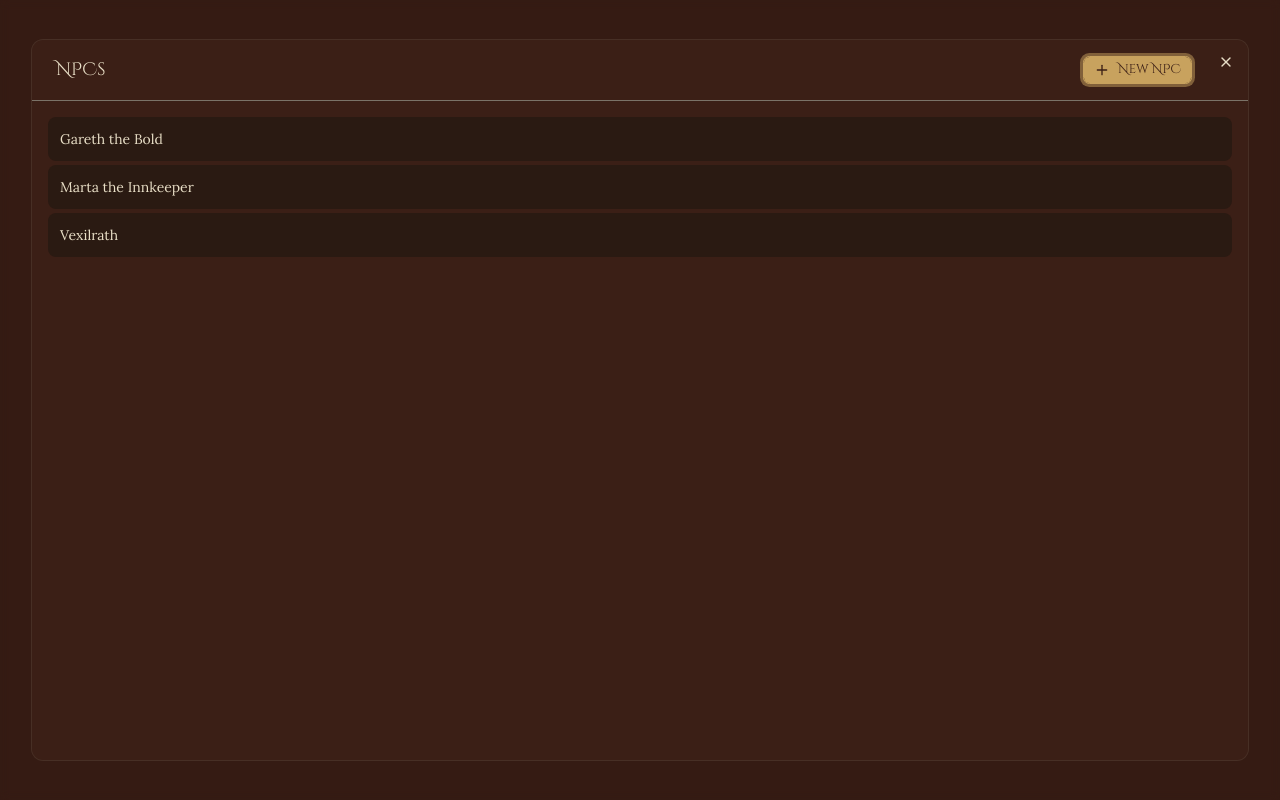
it: MasterDetailModal — Detail Sidebar › shows detail sidebar when an item is clicked
Click the text "Gareth the Bold": (112, 139) x1=60 y1=130 x2=163 y2=148
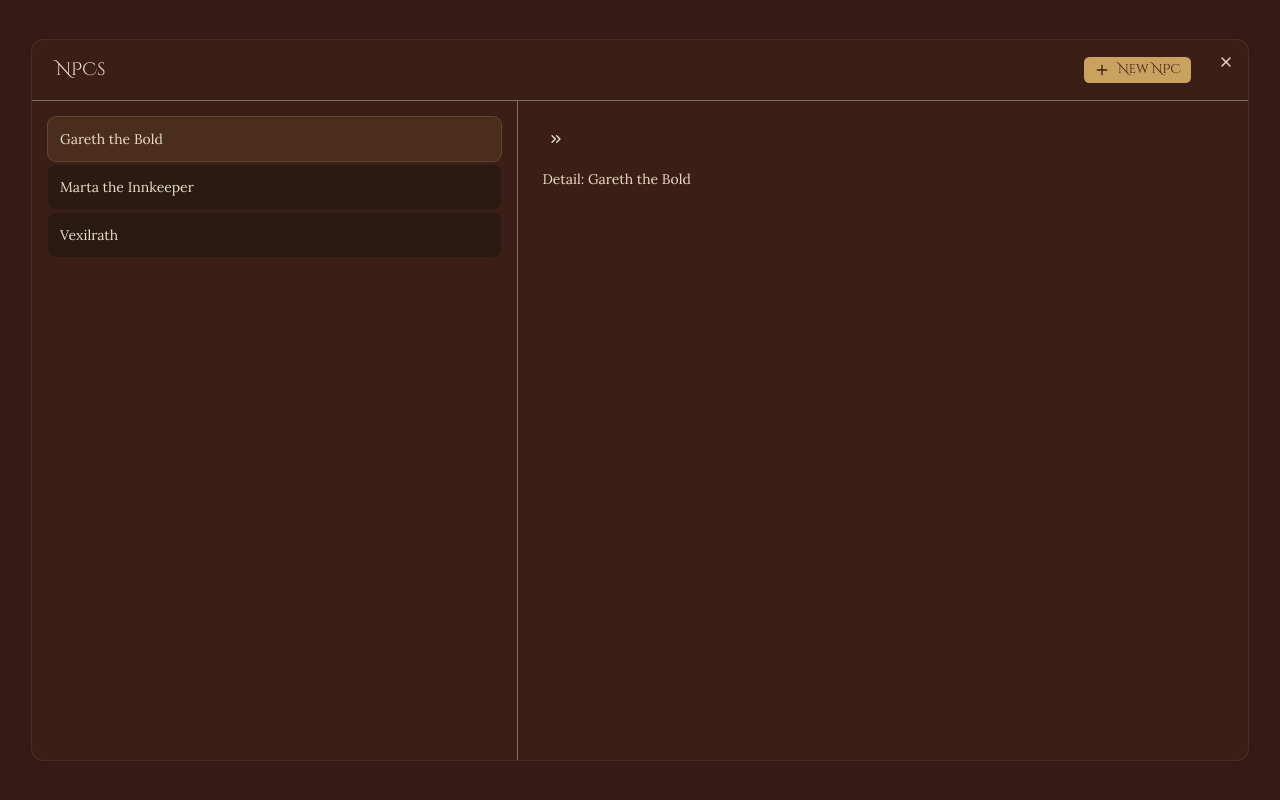
Result: the text "Detail: Gareth the Bold" is shown at x1=542 y1=170 x2=691 y2=188
